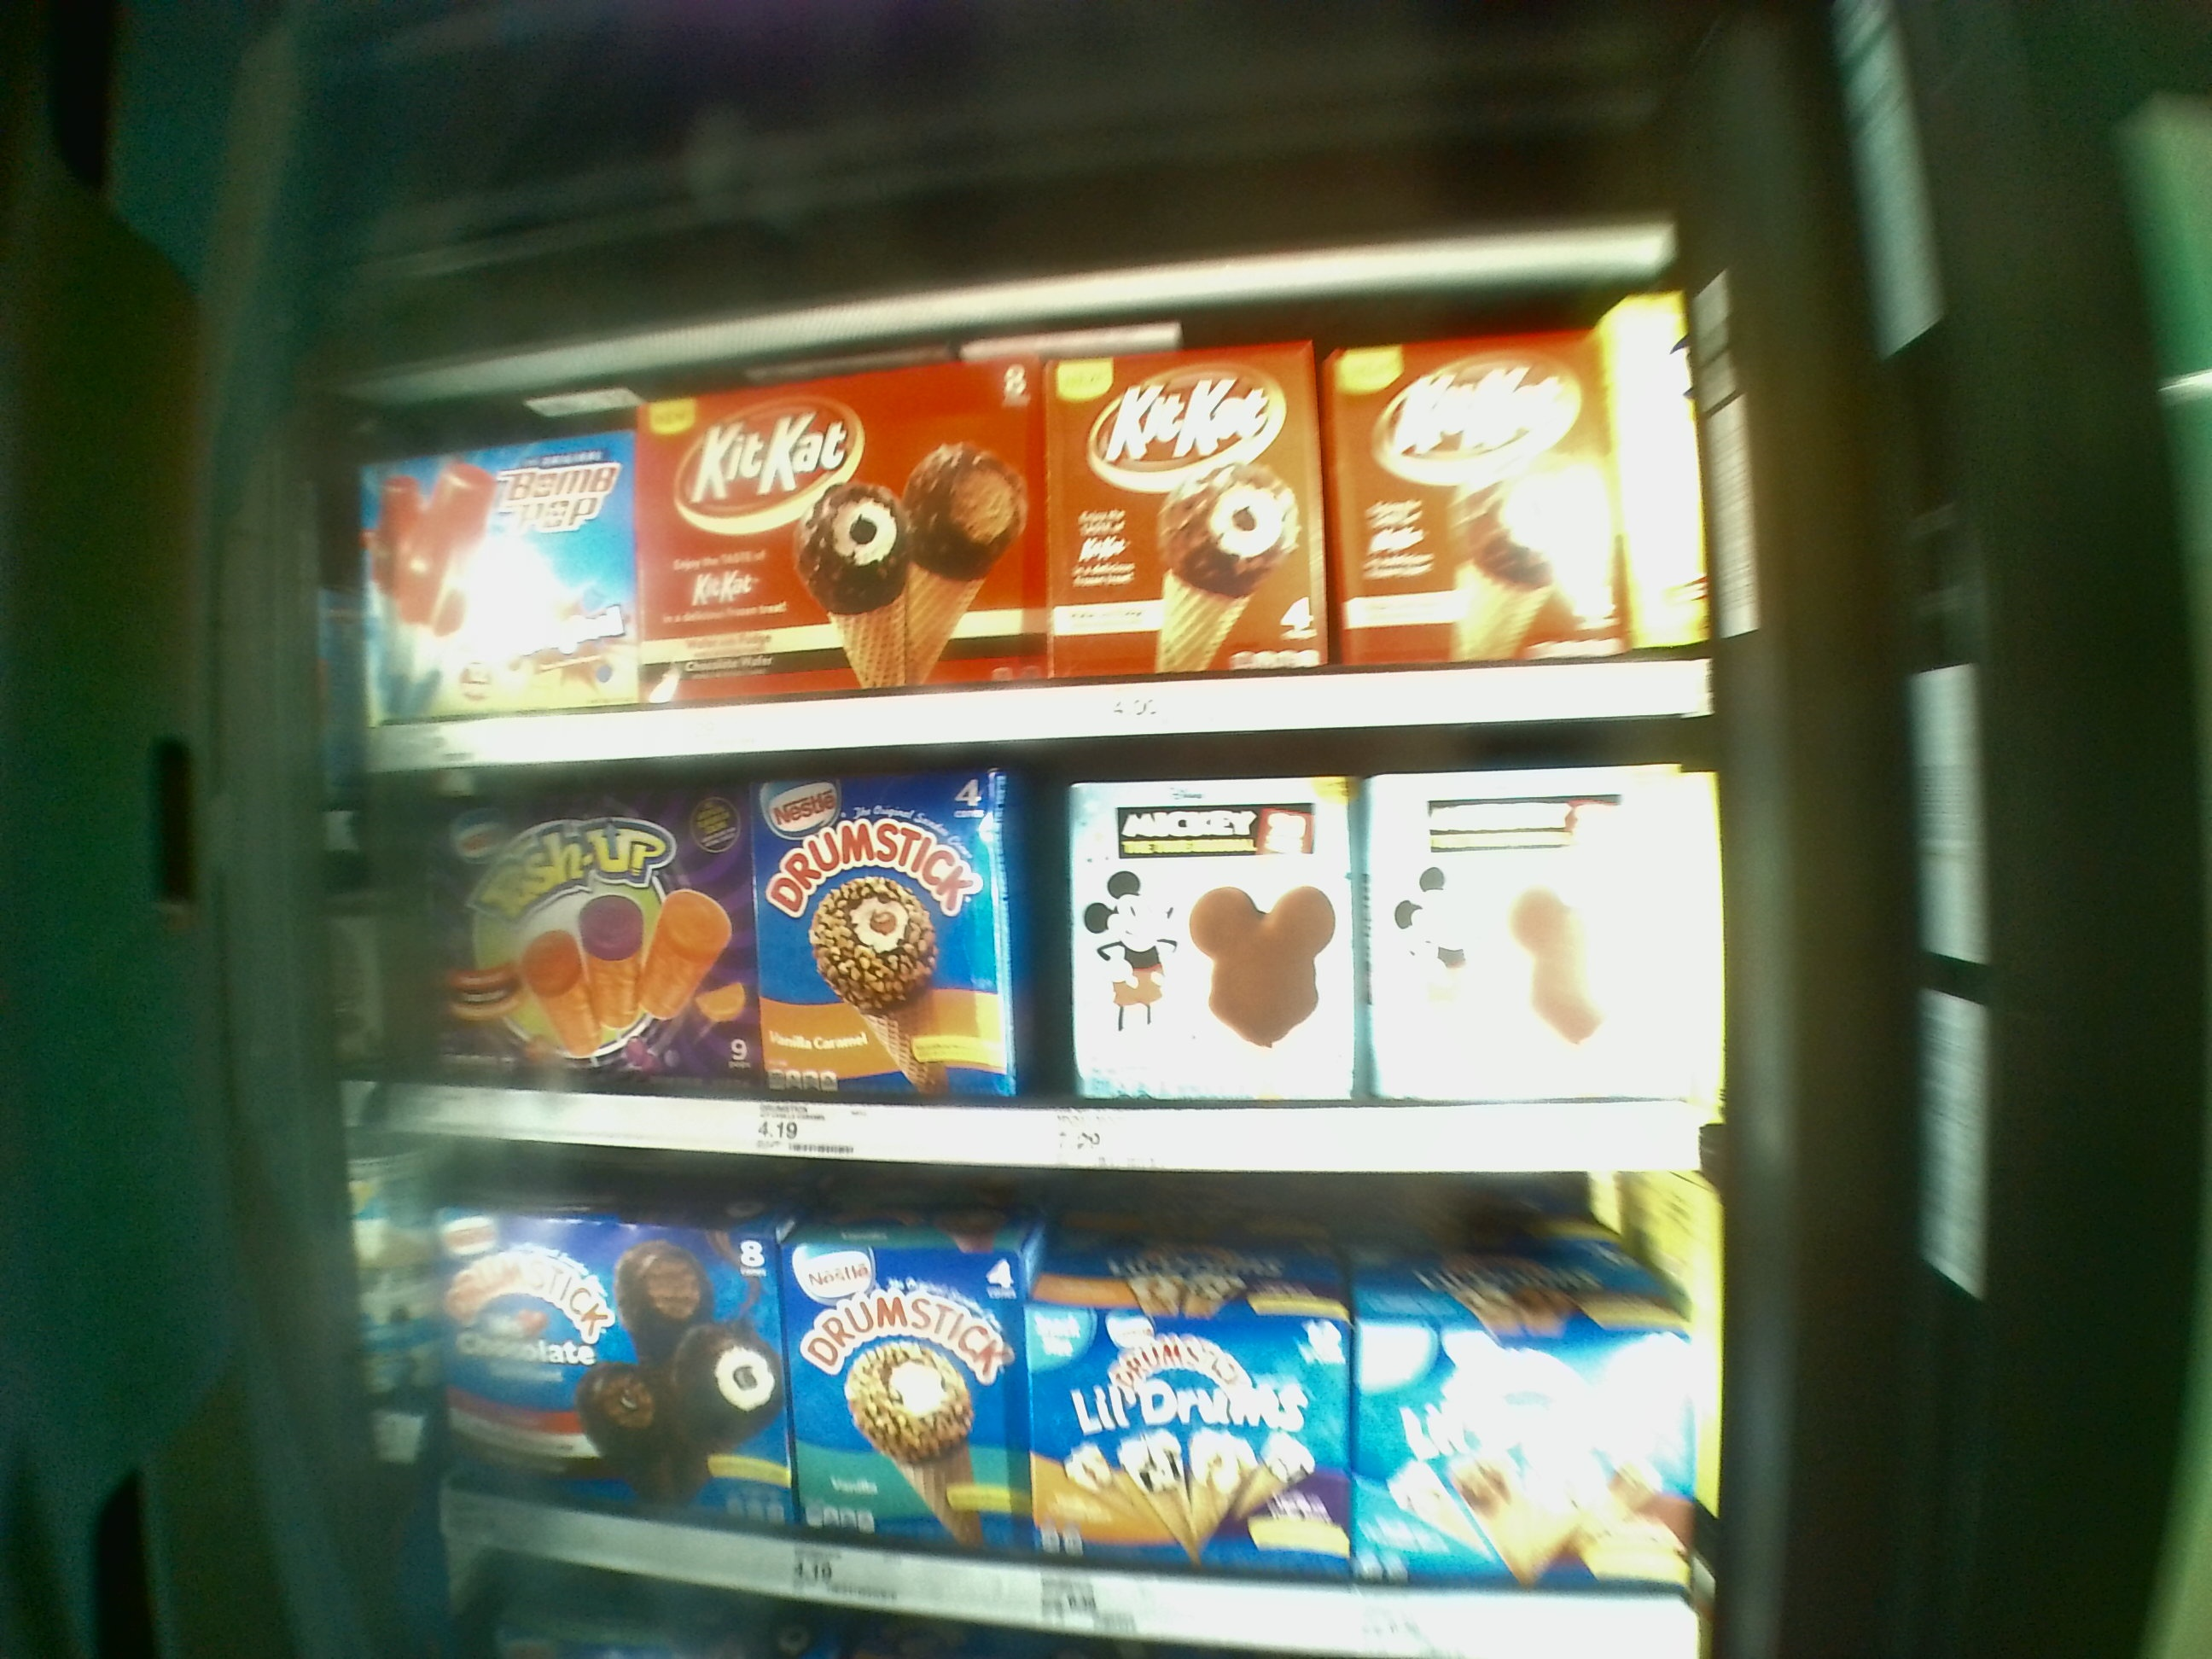shelf: (408, 1164, 1707, 1659), (336, 307, 1709, 762), (350, 758, 1703, 1187)
